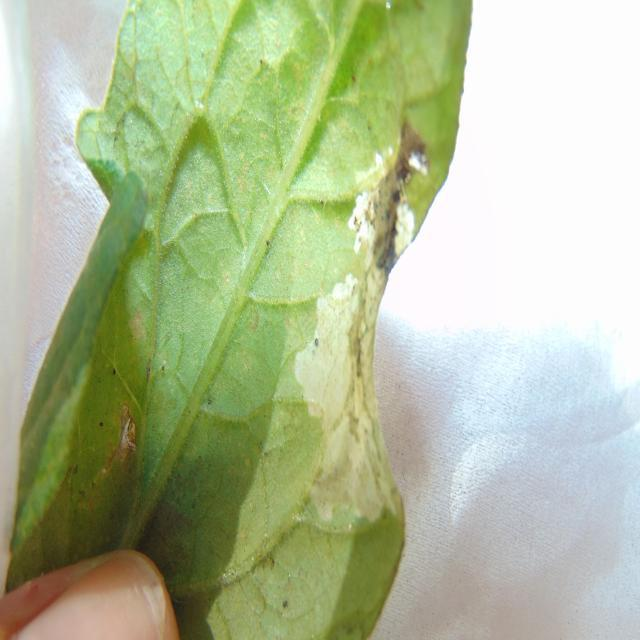Tuta absoluta: (281, 123, 434, 526)
